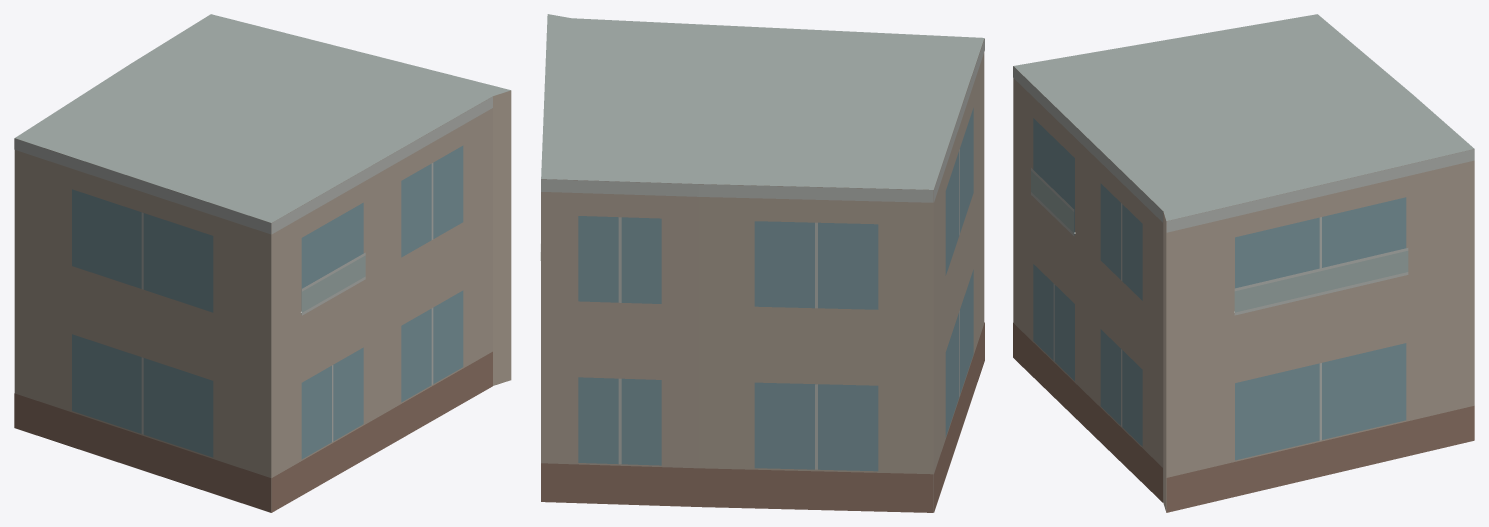
The model's file is survey-upis-32463240.glb.
3 views of the same model, side by side, from view 1: azimuth 30°, elevation 25°; view 2: azimuth 150°, elevation 25°; view 3: azimuth 270°, elevation 25° (orthographic). The views are drawn at different scales.
Parts seen in each view (by area): view 1: survey-upis-32463240.tmp; view 2: survey-upis-32463240.tmp; view 3: survey-upis-32463240.tmp.
Part boxes in pixels (x1=…): survey-upis-32463240.tmp: x1=14, y1=14, x2=511, y2=512; survey-upis-32463240.tmp: x1=540, y1=14, x2=984, y2=512; survey-upis-32463240.tmp: x1=1013, y1=14, x2=1474, y2=512.
Size of the model in its own units: 9.3 by 6.1 by 8.76.
